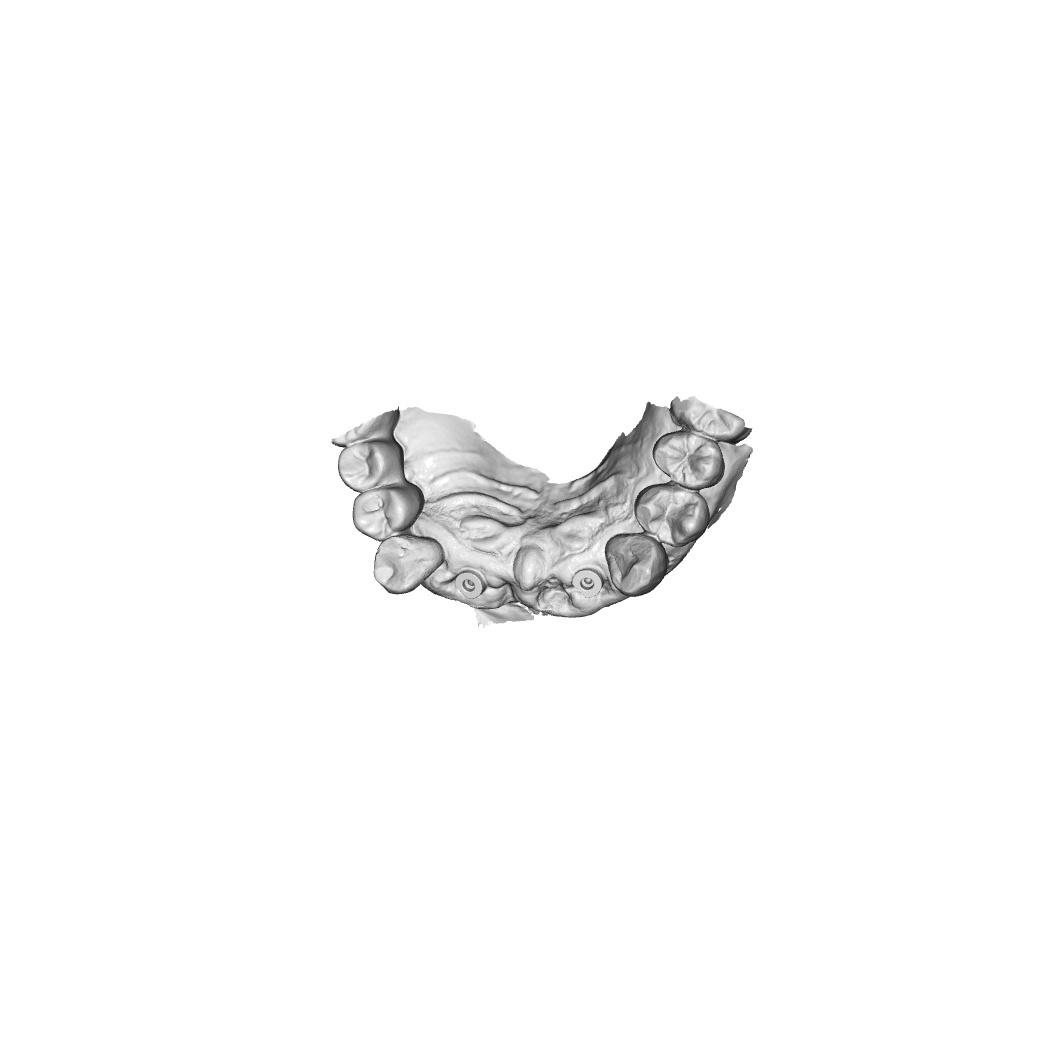canine: (371, 531, 446, 596), (602, 532, 669, 598)
implant: (452, 567, 487, 602), (570, 566, 605, 599)
molar: (669, 399, 747, 442)
premolar: (632, 483, 713, 549), (351, 480, 427, 542), (650, 430, 727, 491), (336, 438, 406, 493)
